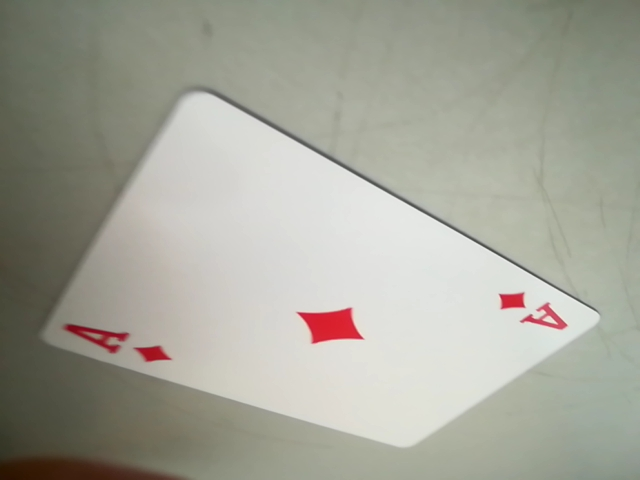fk a: (47, 322, 181, 367), (496, 284, 578, 339)
